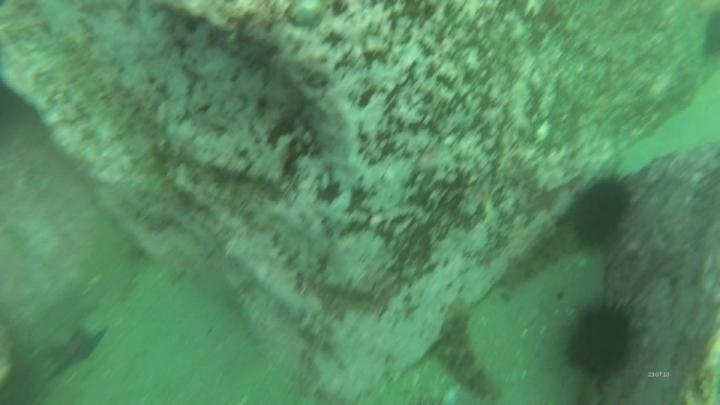echinus: (559, 293, 644, 386), (563, 169, 637, 252)
holothurian: (436, 301, 502, 403), (496, 225, 582, 294)
starfish: (42, 321, 111, 380)
